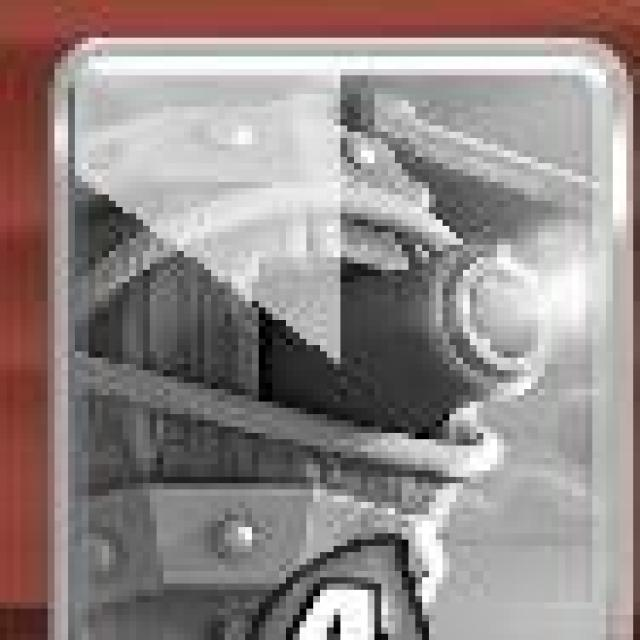Flying_Machine: (47, 30, 633, 640)
